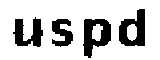d: (115, 3, 148, 51)
p: (81, 17, 113, 60)
s: (49, 19, 74, 49)
u: (10, 12, 43, 48)
